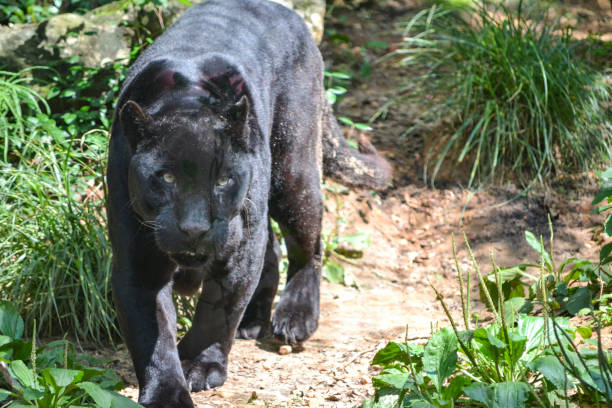panther: (105, 90, 270, 280)
